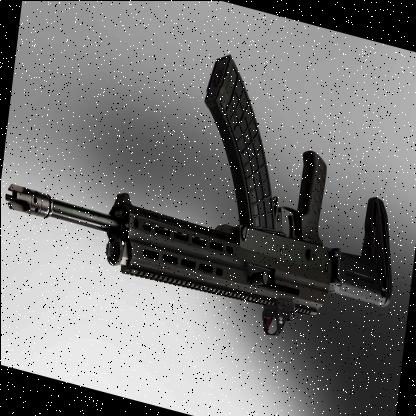rifle: (0, 9, 416, 354)
